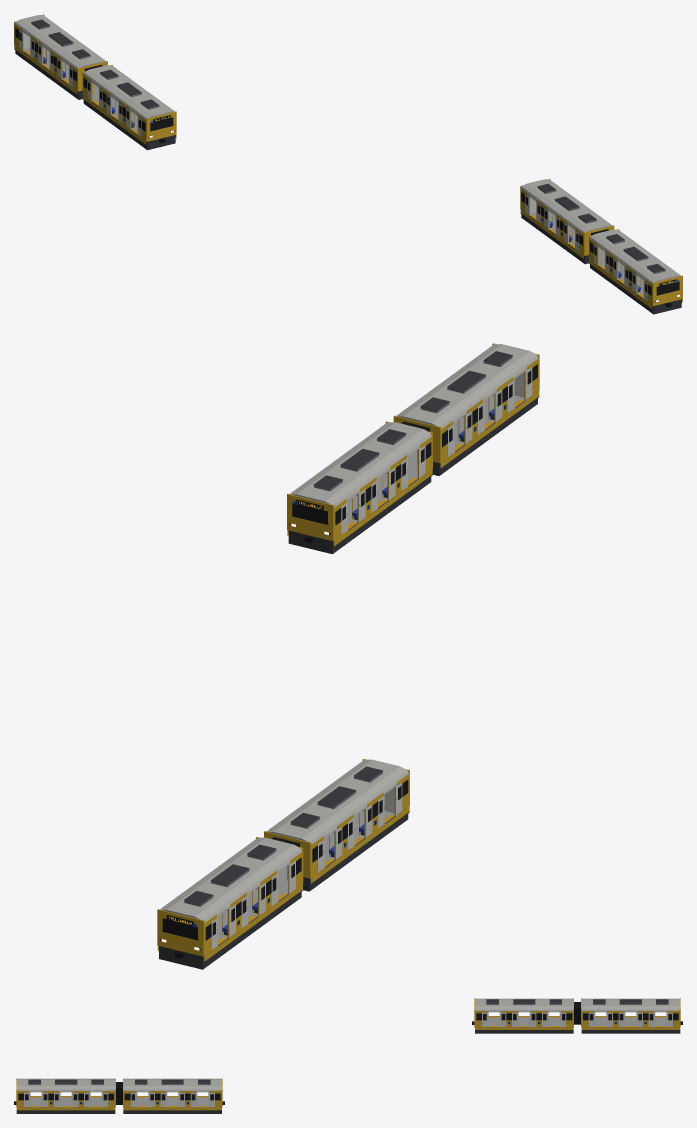
The model's file is ug-trains.glb.
3 views of the same model, one above another, from view 1: azimuth 30°, elevation 25°; view 2: azimuth 150°, elevation 25°; view 3: azimuth 270°, elevation 25° (orthographic). The views are drawn at different scales.
Visible parts, largest first — view 1: ug-trains; view 2: ug-trains; view 3: ug-trains.
Part boxes in pixels (left/top/right/bottom): ug-trains: left=14, top=14, right=682, bottom=314; ug-trains: left=157, top=343, right=539, bottom=969; ug-trains: left=14, top=998, right=682, bottom=1113.
Bounding box in the file's own units: 27.43 × 3.77 × 84.7.
